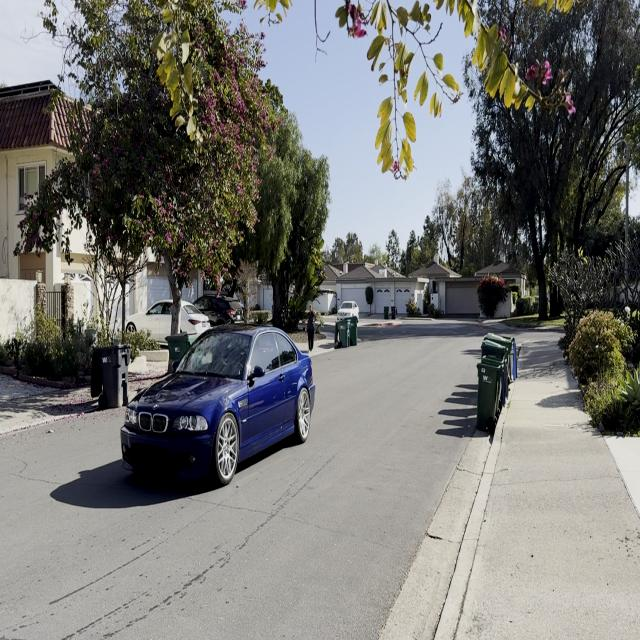Carbeetle: (117, 319, 320, 499)
